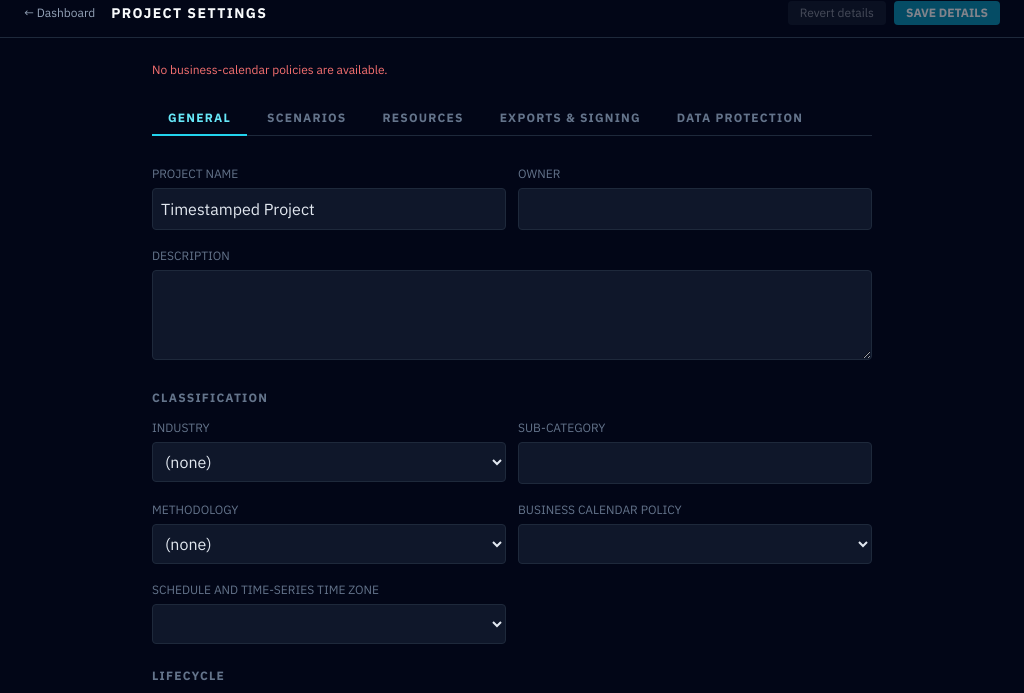
it: project PAdES timestamp settings › loads the opt-in endpoint, policy, and trust-root configuration
The width and height of the screenshot is (1024, 693).
Expected: the element named "Project settings sections" is shown, [152, 102, 872, 136]
Click the tab "Exports & Signing" at (570, 119), box [484, 102, 657, 136]
(page scrolled)
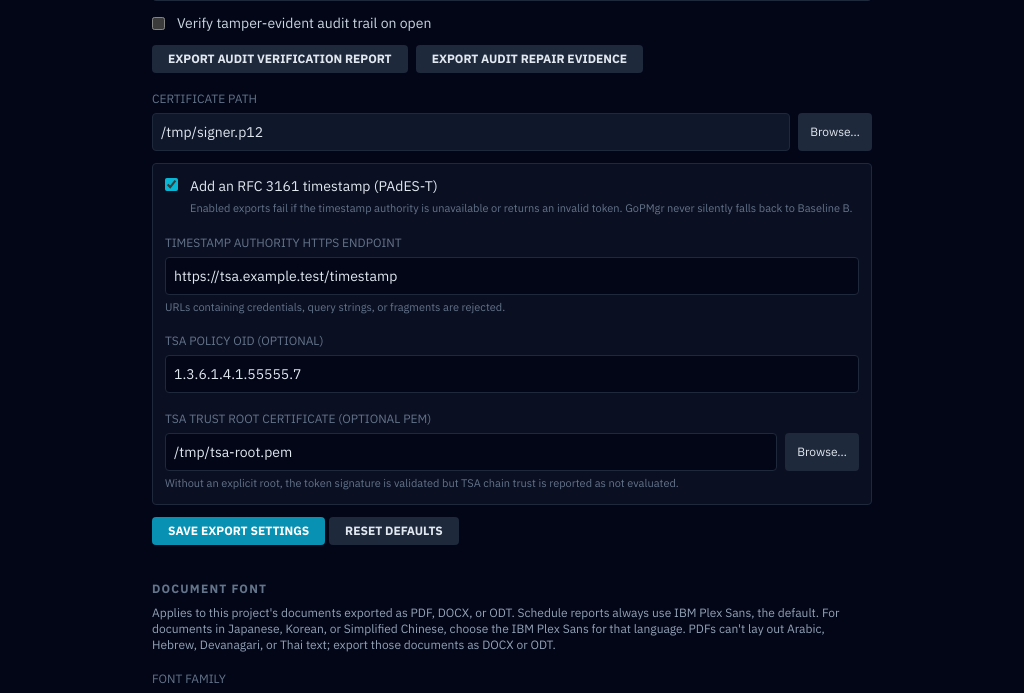
Result: the checkbox labelled "Add an RFC 3161 timestamp" is checked at [165, 178, 178, 191]
Result: the field labelled "Timestamp authority HTTPS endpoint" holds "https://tsa.example.test/timestamp" at [165, 256, 859, 294]
Result: the field labelled "TSA policy OID (optional)" holds "1.3.6.1.4.1.55555.7" at [165, 355, 859, 393]
